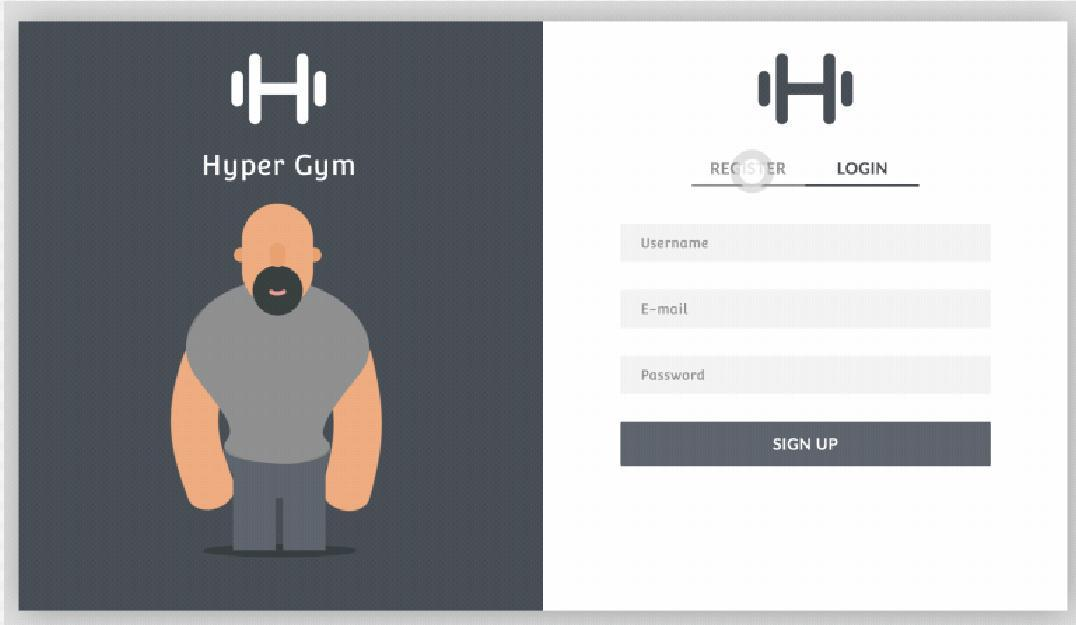button: (620, 421, 992, 469)
input: (622, 221, 991, 266), (621, 355, 990, 399), (622, 287, 991, 330)
